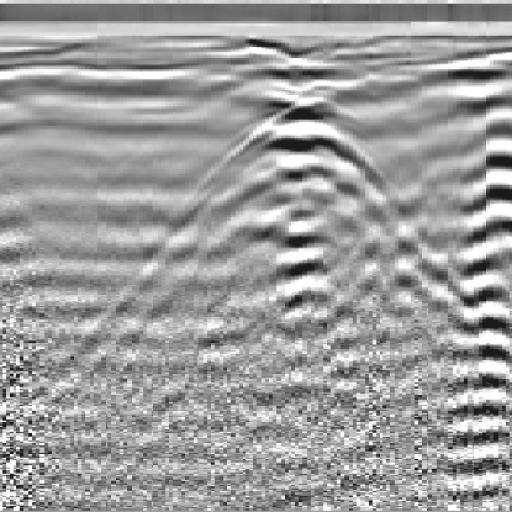metalic: (148, 64, 432, 361)
